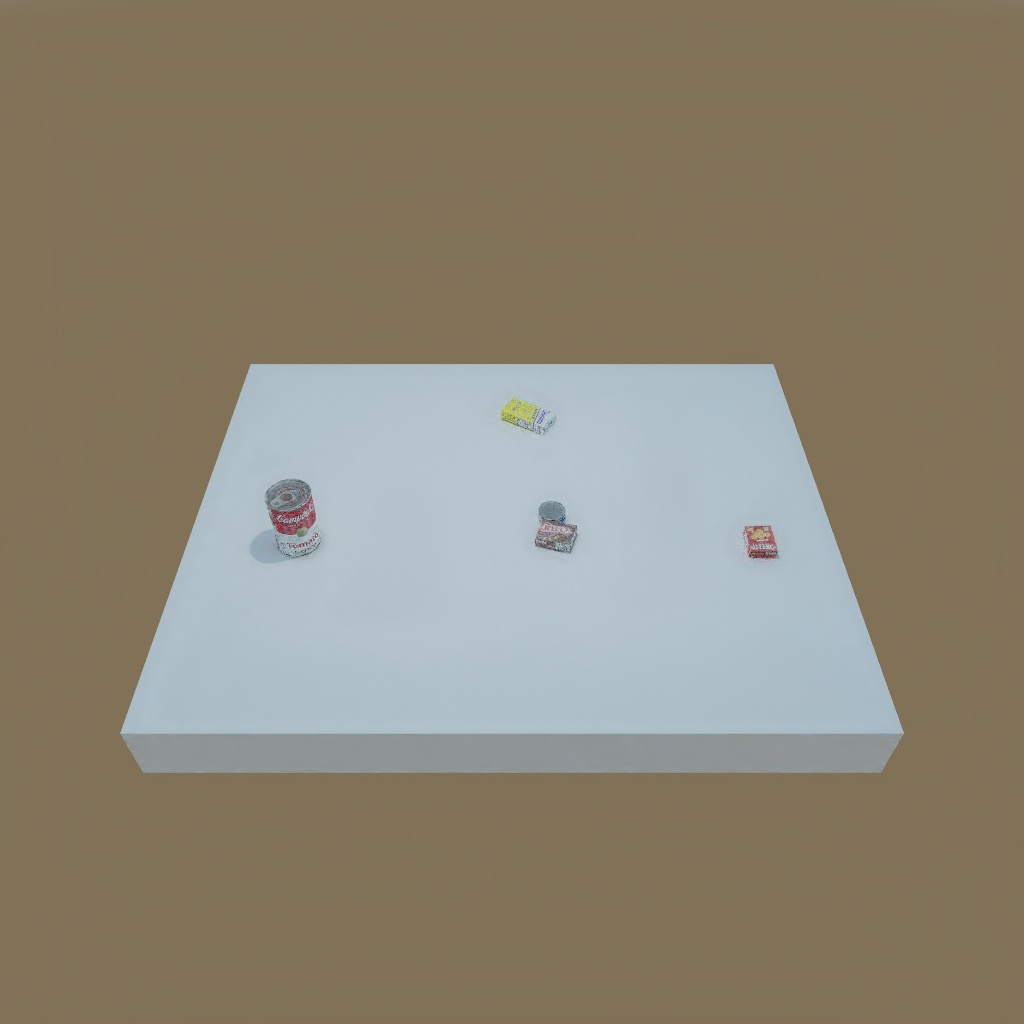pudding_box: (529, 520, 583, 559)
tomato_soup_can: (260, 471, 327, 561)
